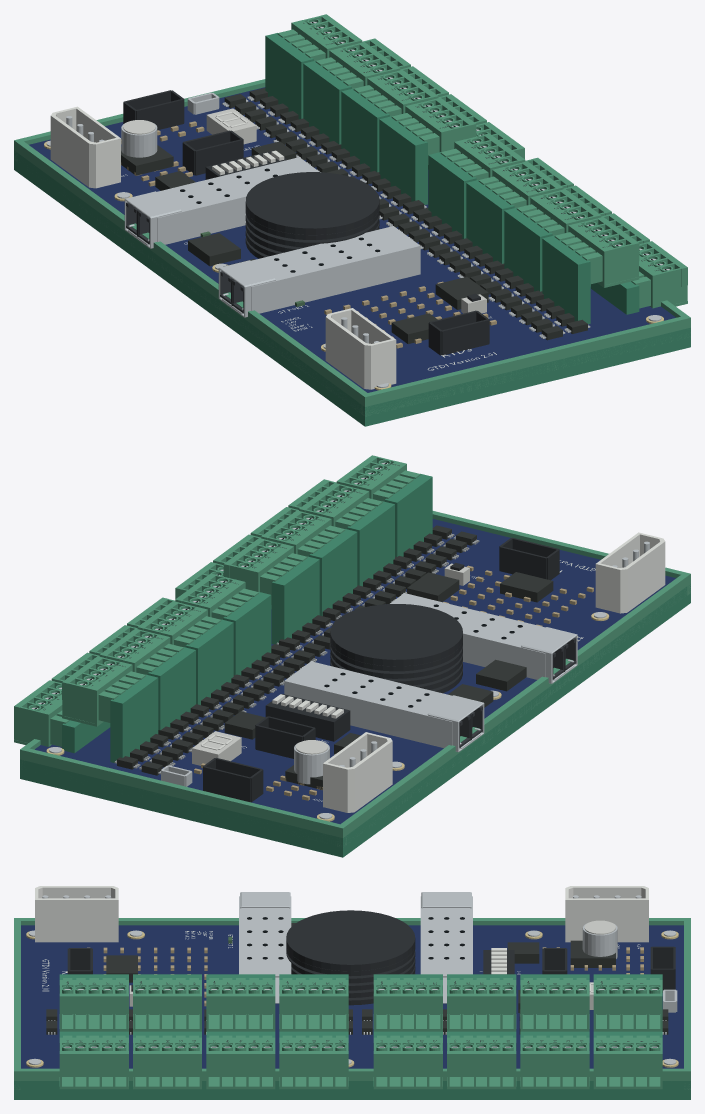
File: asset.glb
3 renders of one model, top to bottom at view 1: azimuth 30°, elevation 25°; view 2: azimuth 150°, elevation 25°; view 3: azimuth 270°, elevation 25°, orthographic. The views are drawn at different scales.
Parts seen in each view (by area): view 1: gtdi-v2-2.01.body, gtdi-v2-2.01.carrier, gtdi-v2-2.01.heatsink_top, gtdi-v2-2.01.carrier_lip-0.051, gtdi-v2-2.01.carrier_end-0.096, gtdi-v2-2.01.optical_cage_2_side-1, gtdi-v2-2.01.power2.keyed_shroud, gtdi-v2-2.01.power1.keyed_shroud, gtdi-v2-2.01.optical_cage_2_z0.01605, gtdi-v2-2.01.bank8_odd.pcb_header, gtdi-v2-2.01.bank4_odd.pcb_header, gtdi-v2-2.01.optical_cage_1_z0.01605 (+25 smaller); view 2: gtdi-v2-2.01.body, gtdi-v2-2.01.carrier, gtdi-v2-2.01.carrier_lip-0.051, gtdi-v2-2.01.heatsink_top, gtdi-v2-2.01.carrier_end0.096, gtdi-v2-2.01.power2.keyed_shroud, gtdi-v2-2.01.power1.keyed_shroud, gtdi-v2-2.01.optical_cage_1_z0.01605, gtdi-v2-2.01.optical_cage_1_side1, gtdi-v2-2.01.bank1_odd.pcb_header, gtdi-v2-2.01.bank5_odd.pcb_header, gtdi-v2-2.01.bank4_odd.pcb_header (+27 smaller); view 3: gtdi-v2-2.01.body, gtdi-v2-2.01.carrier, gtdi-v2-2.01.power2.keyed_shroud, gtdi-v2-2.01.heatsink_top, gtdi-v2-2.01.carrier_lip0.051, gtdi-v2-2.01.power1.keyed_shroud, gtdi-v2-2.01.optical_cage_1_z0.01605, gtdi-v2-2.01.optical_cage_2_z0.01605, gtdi-v2-2.01.heatsink_core, gtdi-v2-2.01.carrier_lip-0.051, gtdi-v2-2.01.bank2_odd.front_upper_band, gtdi-v2-2.01.bank5_odd.front_upper_band (+71 smaller).
Boxes of the visible parts, left/top/right/bottom form: gtdi-v2-2.01.body: left=29, top=87, right=675, bottom=392; gtdi-v2-2.01.carrier: left=14, top=150, right=690, bottom=426; gtdi-v2-2.01.heatsink_top: left=245, top=172, right=379, bottom=234; gtdi-v2-2.01.carrier_lip-0.051: left=14, top=139, right=371, bottom=415; gtdi-v2-2.01.carrier_end-0.096: left=361, top=315, right=690, bottom=416; gtdi-v2-2.01.optical_cage_2_side-1: left=251, top=245, right=420, bottom=313; gtdi-v2-2.01.power2.keyed_shroud: left=325, top=308, right=396, bottom=389; gtdi-v2-2.01.power1.keyed_shroud: left=50, top=106, right=120, bottom=188; gtdi-v2-2.01.optical_cage_2_z0.01605: left=251, top=226, right=420, bottom=288; gtdi-v2-2.01.bank8_odd.pcb_header: left=542, top=235, right=590, bottom=324; gtdi-v2-2.01.bank4_odd.pcb_header: left=379, top=116, right=427, bottom=204; gtdi-v2-2.01.optical_cage_1_z0.01605: left=157, top=158, right=319, bottom=219; gtdi-v2-2.01.body: left=35, top=519, right=676, bottom=824; gtdi-v2-2.01.carrier: left=20, top=584, right=690, bottom=857; gtdi-v2-2.01.carrier_lip-0.051: left=336, top=572, right=690, bottom=846; gtdi-v2-2.01.heatsink_top: left=330, top=604, right=462, bottom=666; gtdi-v2-2.01.carrier_end0.096: left=20, top=747, right=346, bottom=845; gtdi-v2-2.01.power2.keyed_shroud: left=595, top=532, right=665, bottom=613; gtdi-v2-2.01.power1.keyed_shroud: left=323, top=732, right=392, bottom=812; gtdi-v2-2.01.optical_cage_1_z0.01605: left=284, top=661, right=452, bottom=723; gtdi-v2-2.01.optical_cage_1_side1: left=284, top=681, right=452, bottom=747; gtdi-v2-2.01.bank1_odd.pcb_header: left=110, top=674, right=158, bottom=762; gtdi-v2-2.01.bank5_odd.pcb_header: left=271, top=556, right=319, bottom=644; gtdi-v2-2.01.bank4_odd.pcb_header: left=223, top=592, right=271, bottom=675; gtdi-v2-2.01.body: left=21, top=925, right=683, bottom=1068; gtdi-v2-2.01.carrier: left=14, top=1081, right=690, bottom=1099; gtdi-v2-2.01.power2.keyed_shroud: left=35, top=886, right=118, bottom=942; gtdi-v2-2.01.heatsink_top: left=286, top=910, right=415, bottom=971; gtdi-v2-2.01.carrier_lip0.051: left=14, top=1068, right=690, bottom=1080; gtdi-v2-2.01.power1.keyed_shroud: left=565, top=886, right=648, bottom=942; gtdi-v2-2.01.optical_cage_1_z0.01605: left=420, top=897, right=472, bottom=977; gtdi-v2-2.01.optical_cage_2_z0.01605: left=239, top=908, right=291, bottom=977; gtdi-v2-2.01.heatsink_core: left=300, top=916, right=401, bottom=958; gtdi-v2-2.01.carrier_lip-0.051: left=14, top=918, right=690, bottom=925; gtdi-v2-2.01.bank2_odd.front_upper_band: left=520, top=993, right=589, bottom=1013; gtdi-v2-2.01.bank5_odd.front_upper_band: left=279, top=993, right=348, bottom=1013.
Bounding box in the file's own units: 0.1116 × 0.0286 × 0.194.
